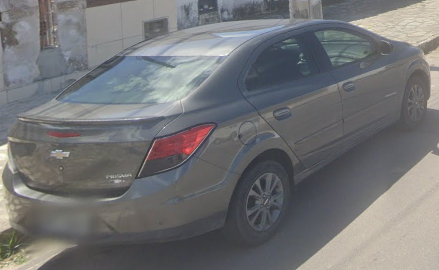car: (4, 19, 432, 244)
